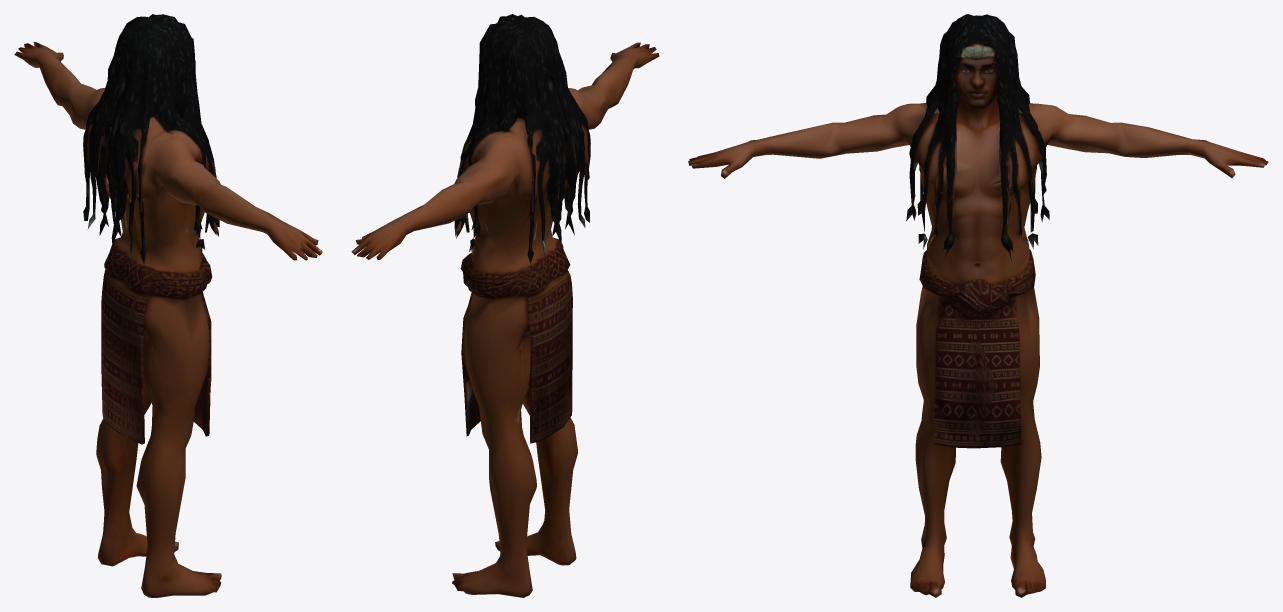
Rendered from no tattoos (1).fbx.
3 views of the same model, side by side, from view 1: azimuth 30°, elevation 25°; view 2: azimuth 150°, elevation 25°; view 3: azimuth 270°, elevation 25° (orthographic).
Parts seen in each view (by area): view 1: tripo_node_060bf6ce; view 2: tripo_node_060bf6ce; view 3: tripo_node_060bf6ce.
Boxes of the visible parts, x1,y1,x2,y2 form: tripo_node_060bf6ce: (14,14,322,597); tripo_node_060bf6ce: (351,14,659,597); tripo_node_060bf6ce: (688,14,1268,597).
Size of the model in its own units: 0.0362 by 0.1734 by 0.1629.
1 material, 1 textured.
